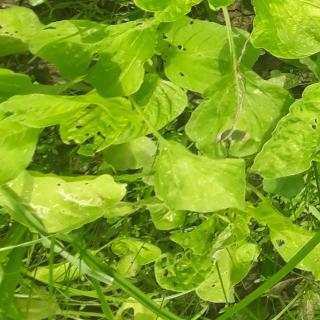karat_putih: (10, 170, 114, 228), (280, 0, 320, 50)
virus_keriting: (250, 76, 320, 179)
